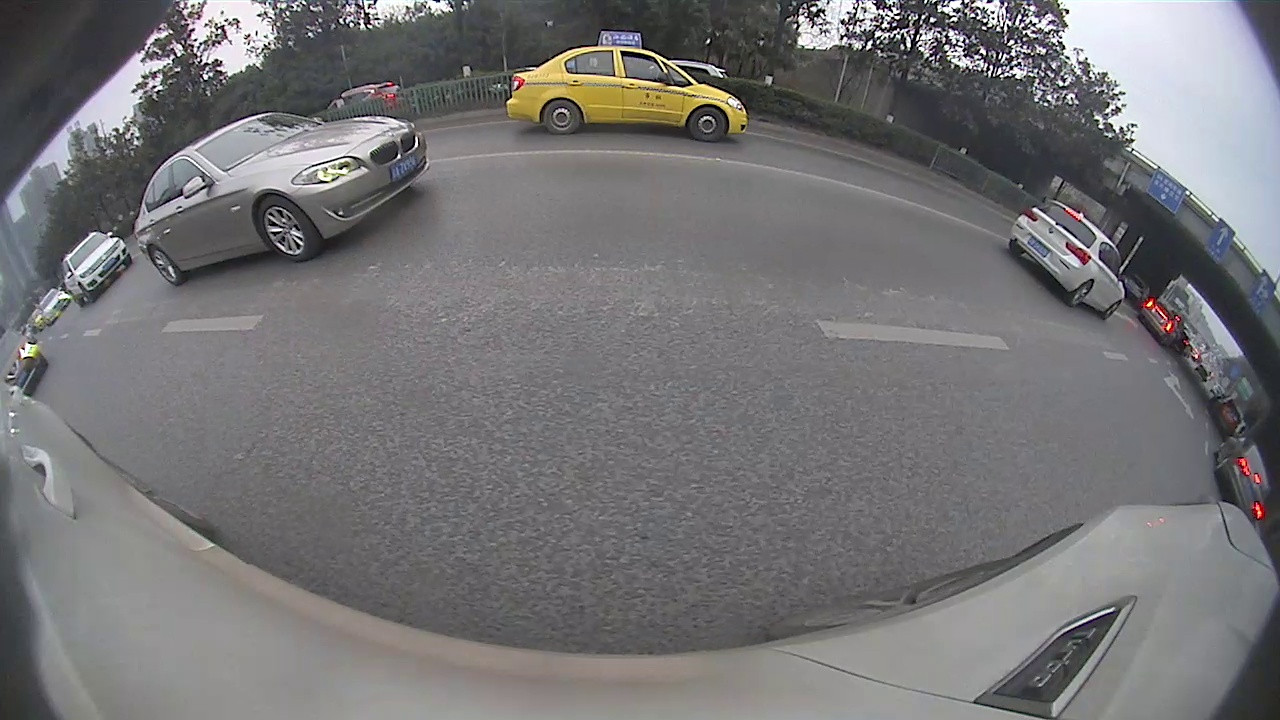car: (131, 111, 431, 287), (504, 30, 750, 144), (1009, 200, 1127, 320), (58, 230, 133, 307), (1214, 436, 1272, 527), (1, 328, 48, 397)
front: (257, 193, 326, 265), (688, 105, 728, 143), (1103, 300, 1124, 322)
rear: (541, 97, 584, 138), (150, 246, 186, 288), (1068, 279, 1095, 309)
